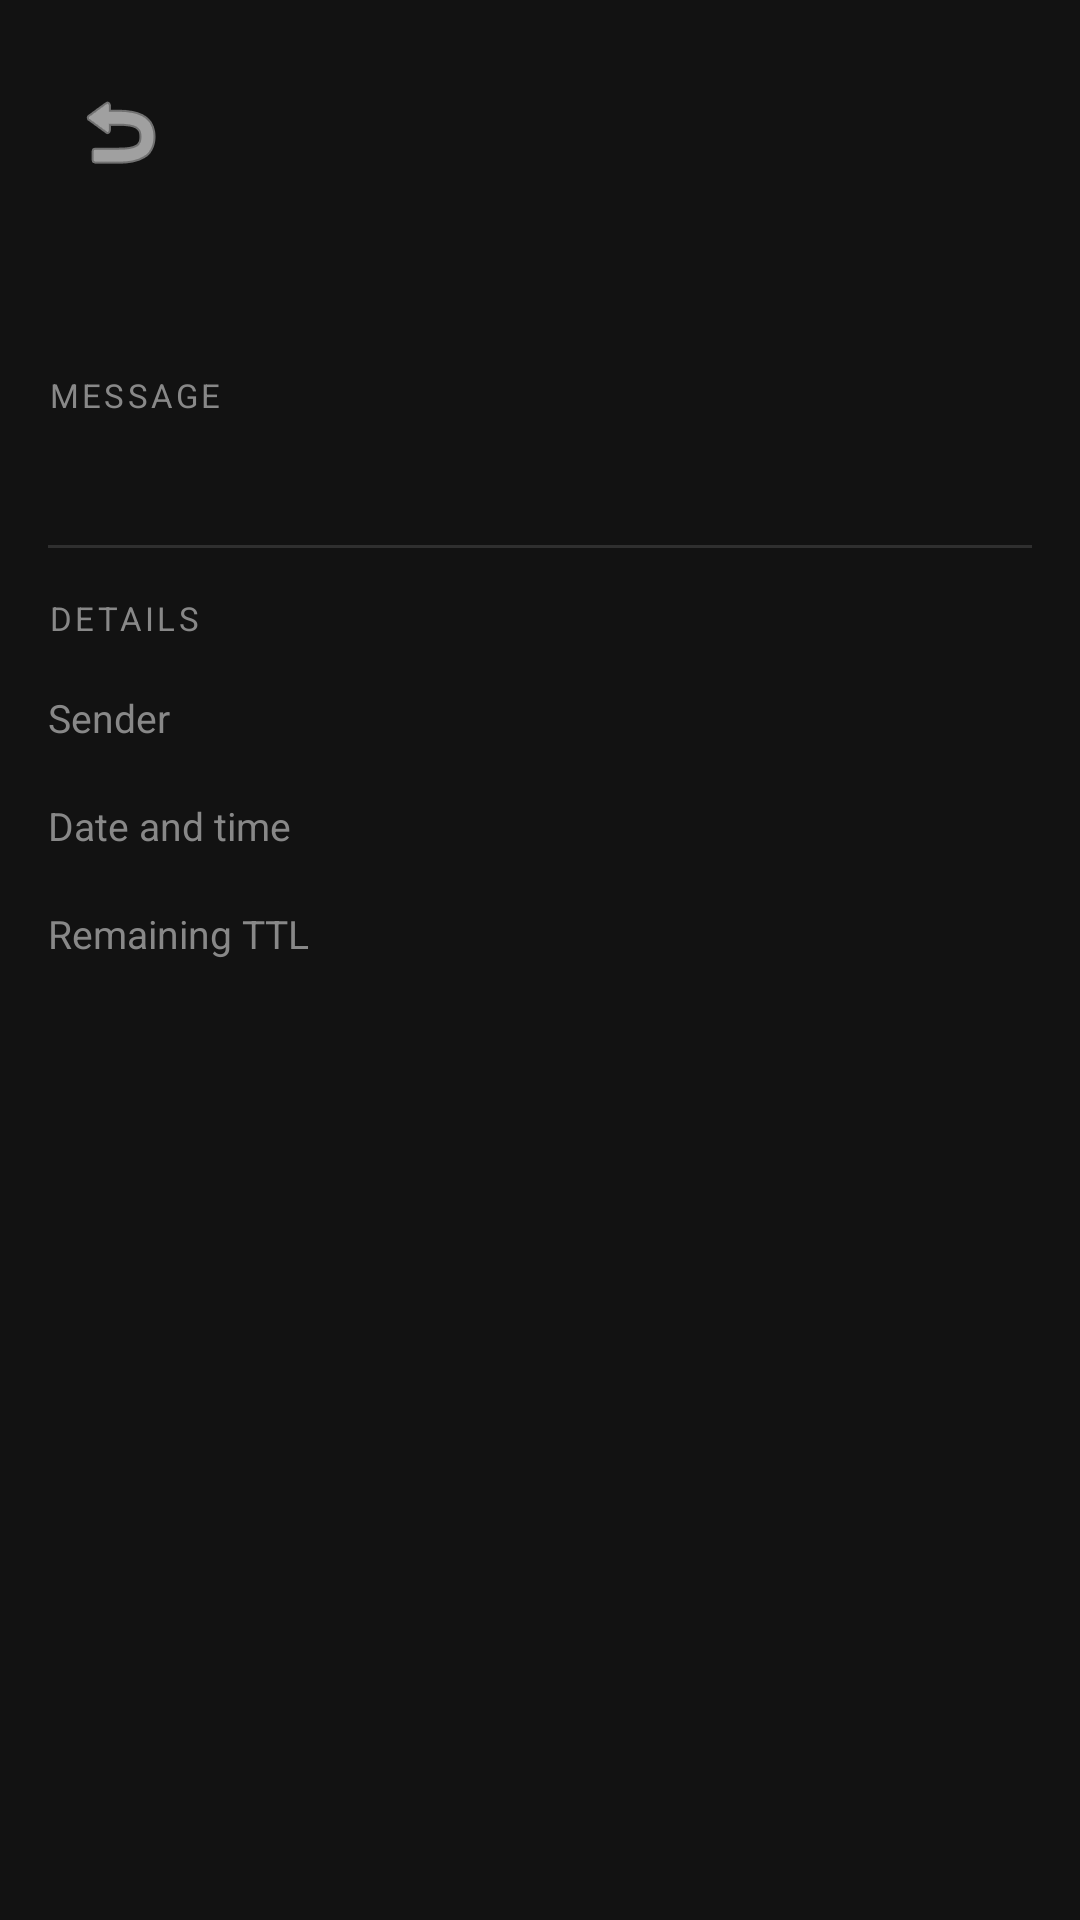

Icons on this 1080*1920 Android screen, each with the point to tap as [x,y]:
Back: [121,132]
